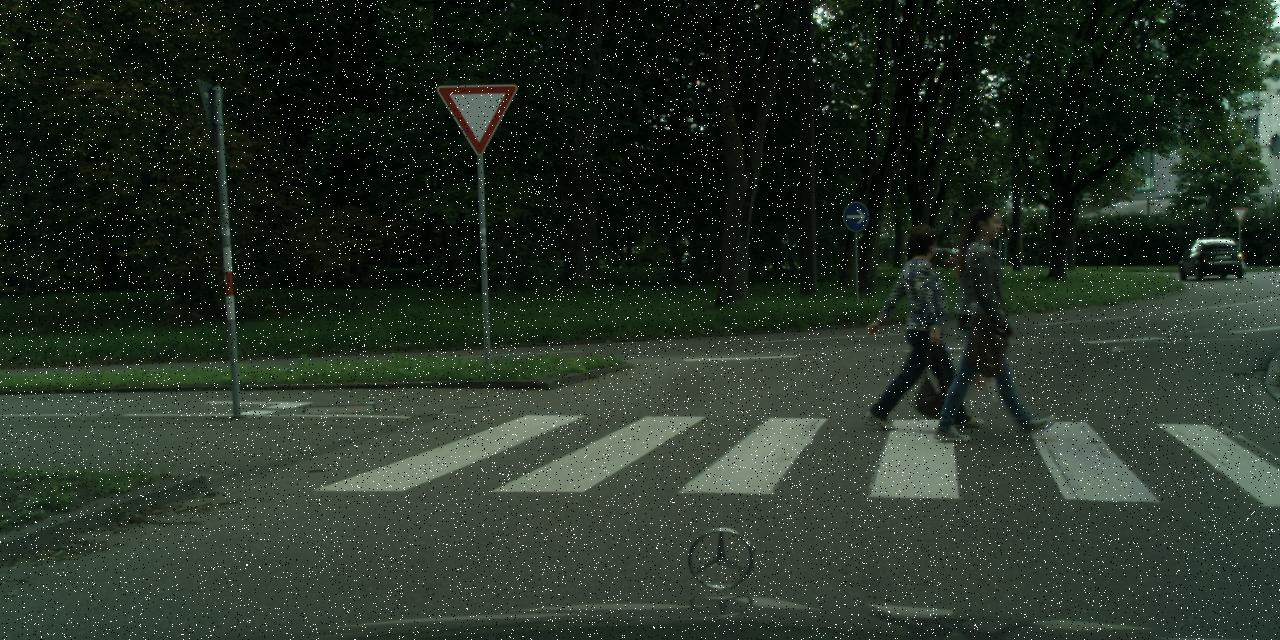ped: (944, 205, 1040, 438), (882, 222, 966, 430)
